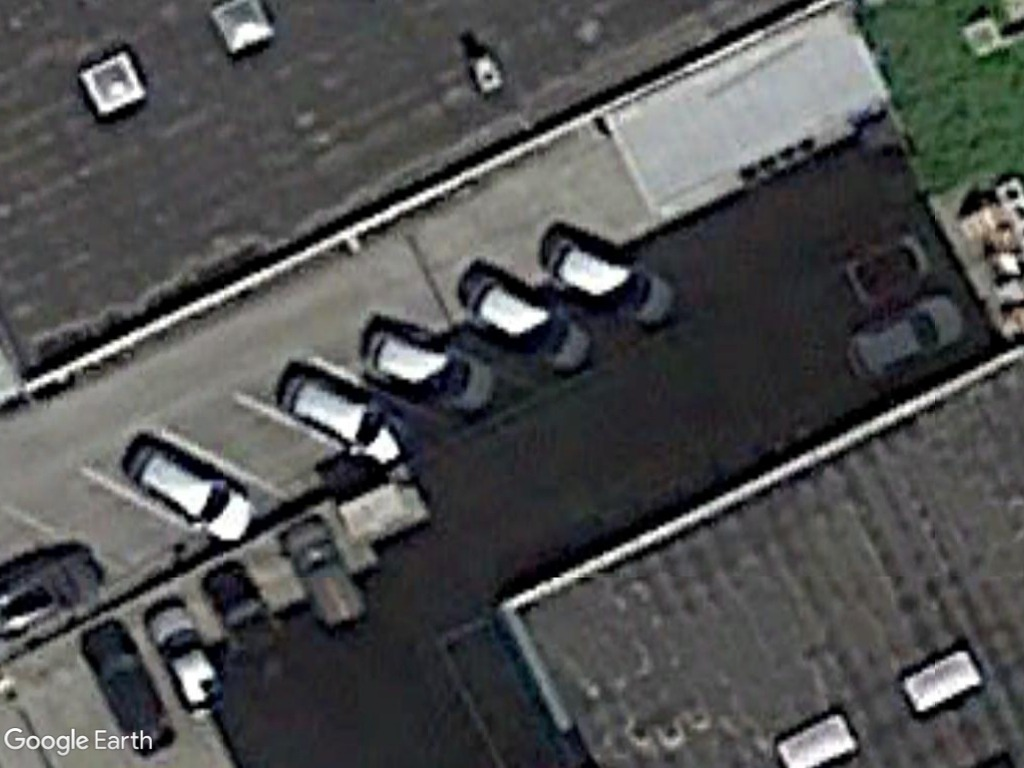car: (457, 270, 596, 380), (119, 444, 258, 546), (269, 370, 413, 463), (363, 322, 501, 418), (838, 292, 969, 392), (540, 233, 678, 327), (147, 599, 233, 723)
